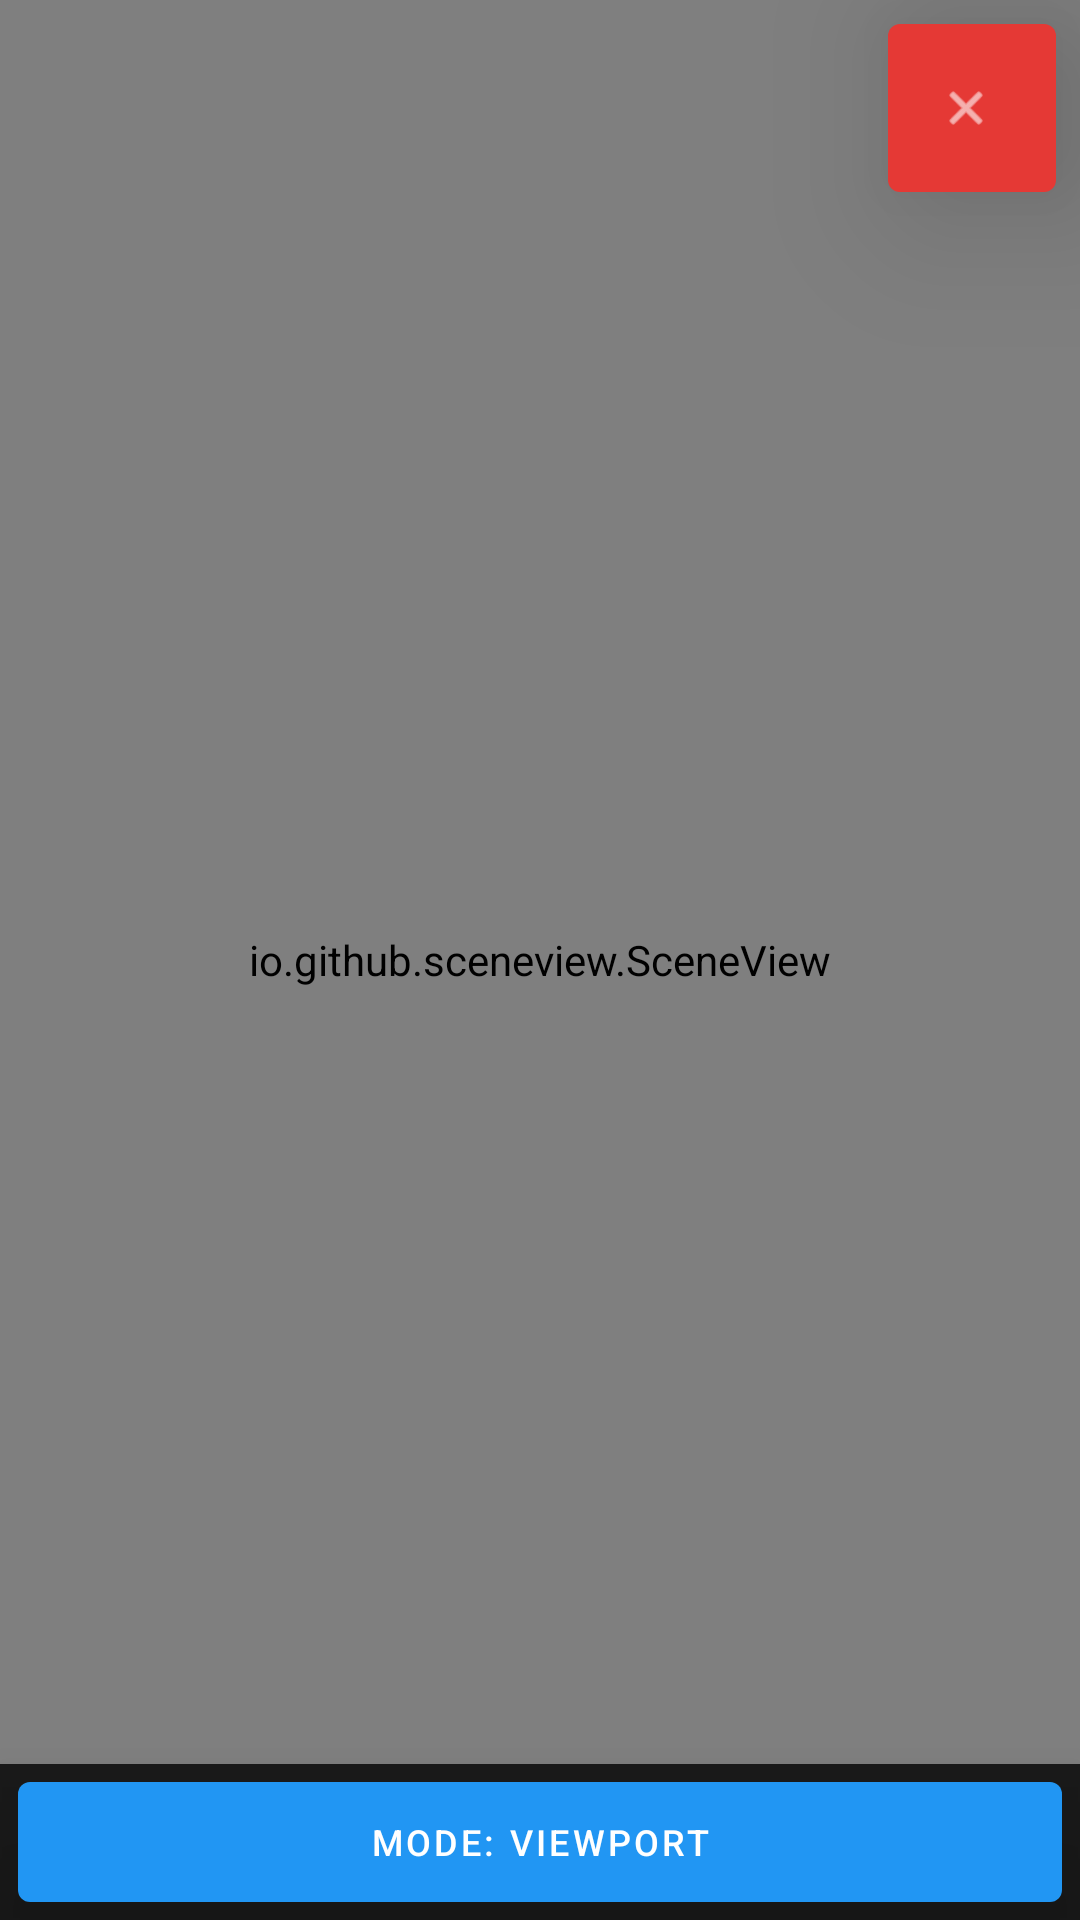

Screen size 1080×1920. Icon name, then its center in pixels as (x,y):
close clear cancel: (972,108)
